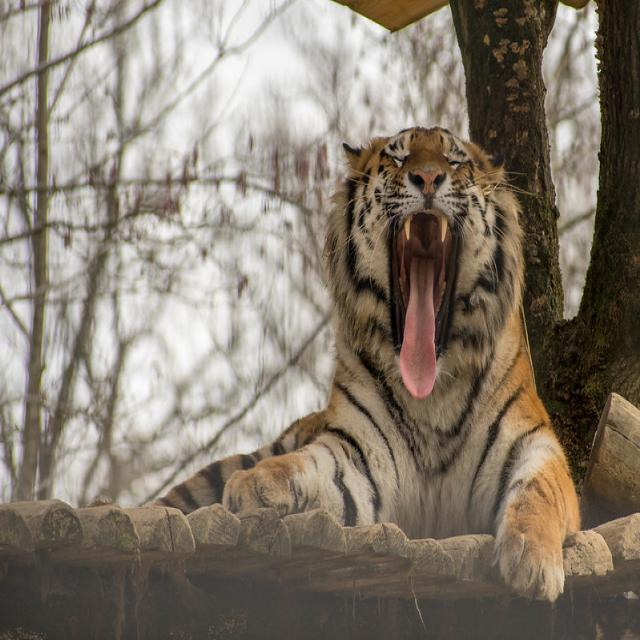Tiger: (74, 120, 582, 600)
